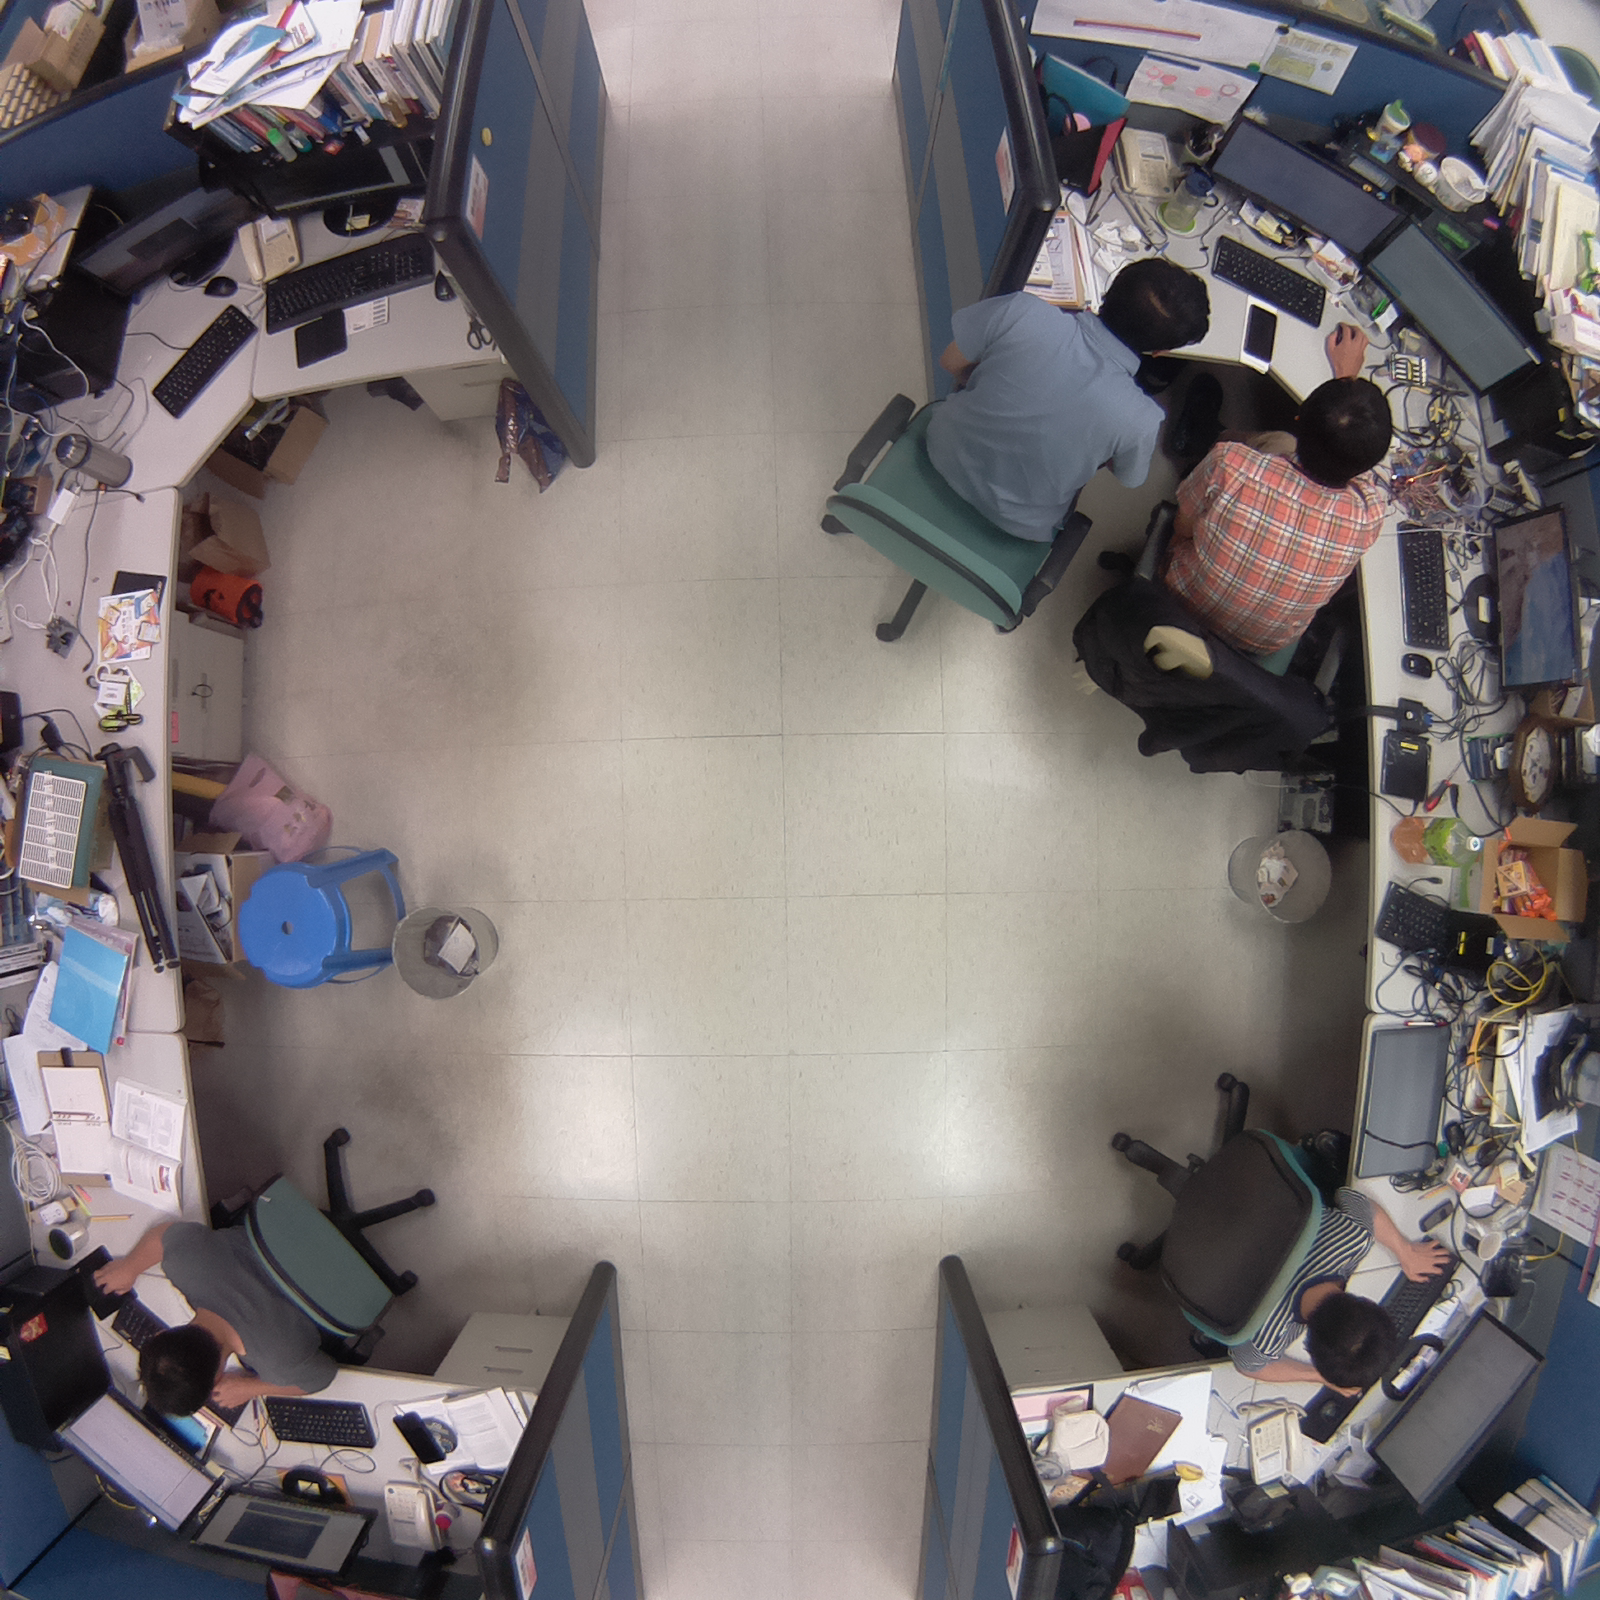head: (1098, 248, 1214, 360), (1292, 368, 1401, 487), (1301, 1284, 1408, 1396), (128, 1316, 226, 1423)
sitting: (809, 240, 1213, 655), (1065, 360, 1399, 791), (1083, 1058, 1455, 1406), (70, 1122, 453, 1412)
